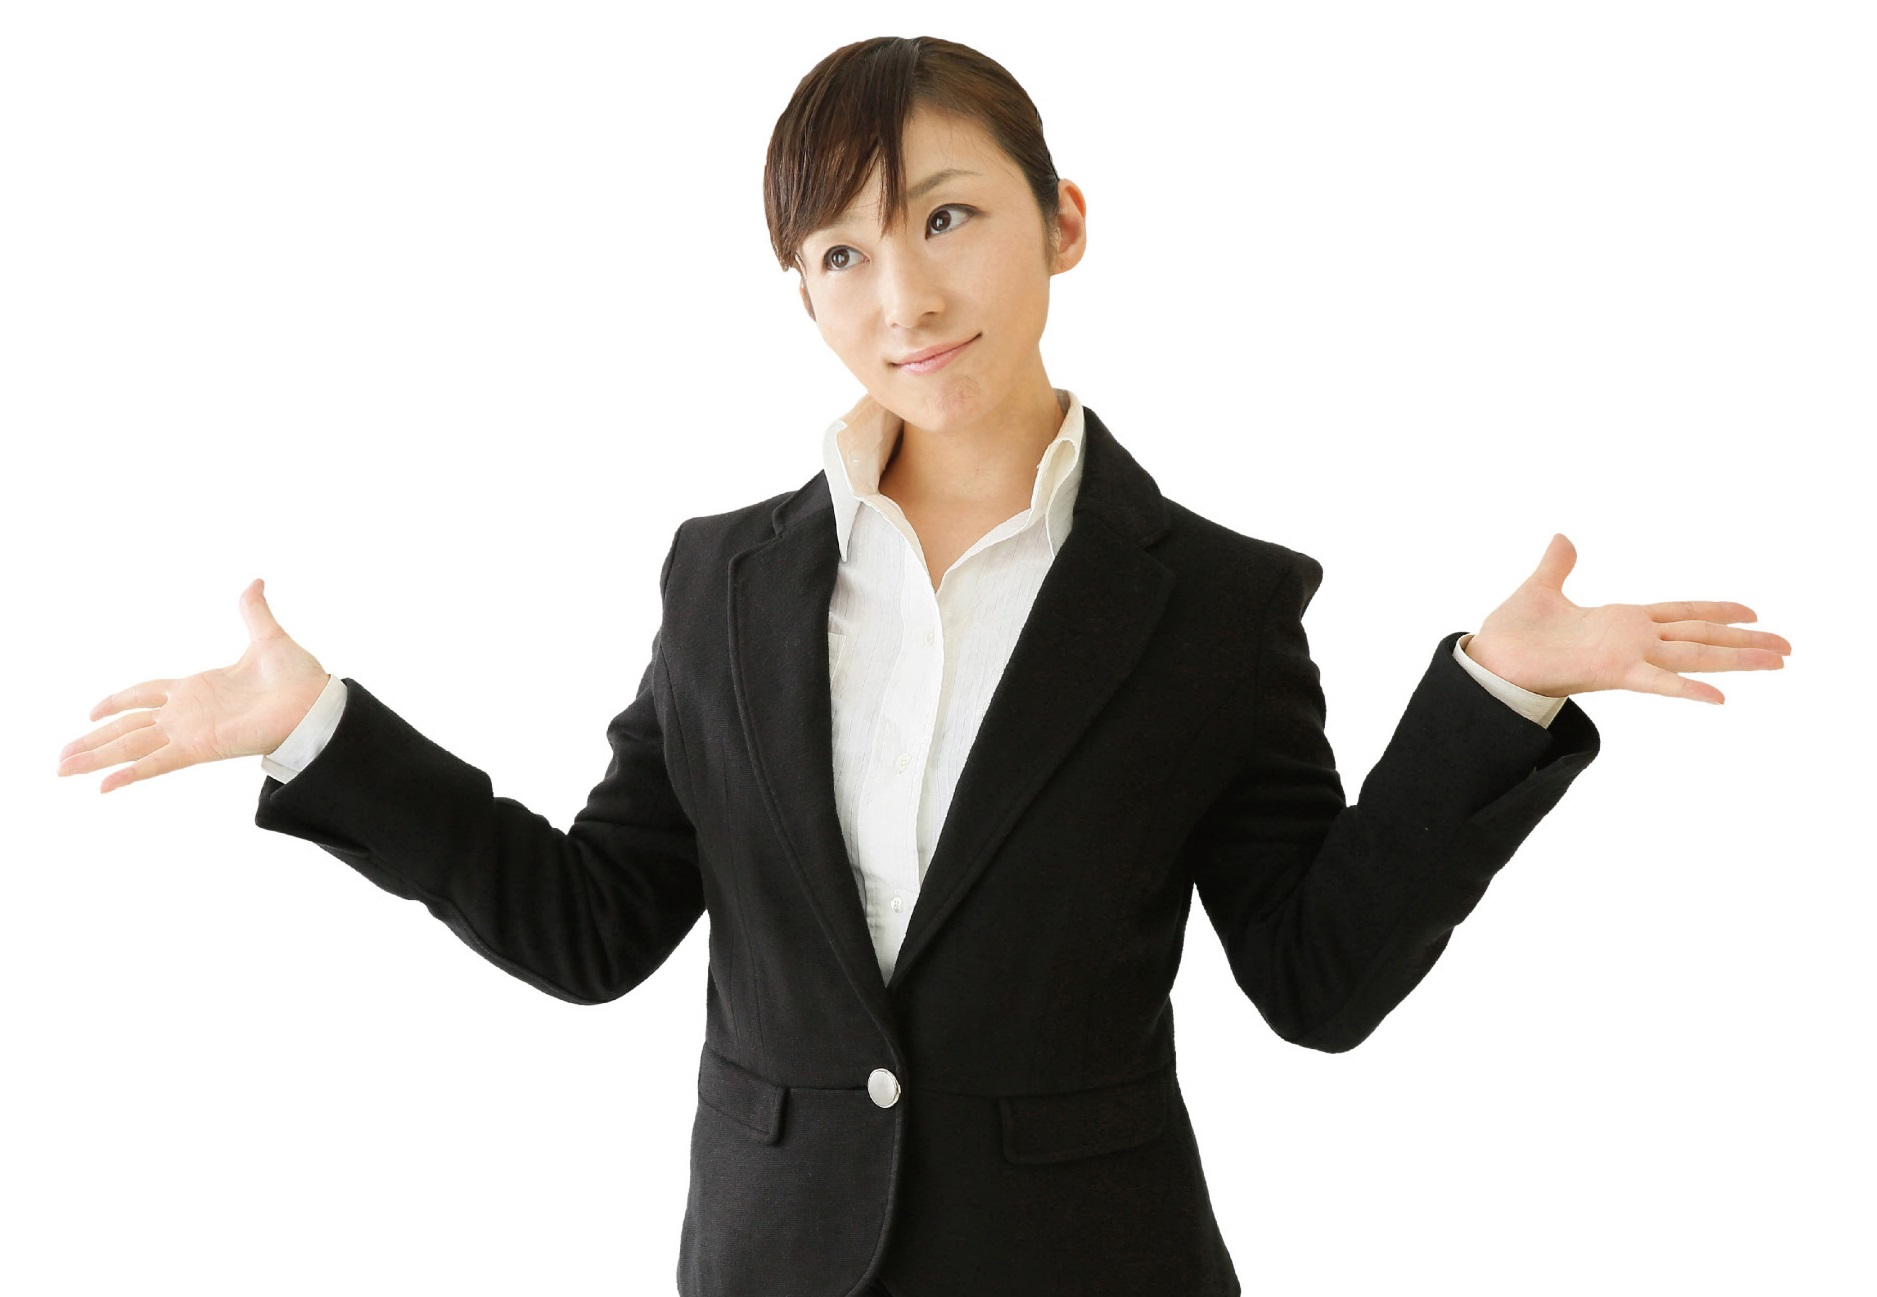face: (793, 97, 1089, 436)
hand: (55, 574, 331, 798), (1466, 528, 1796, 711)
